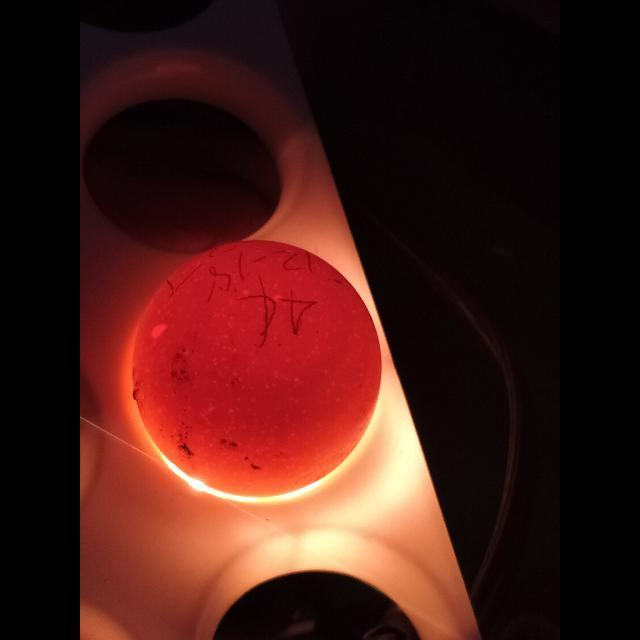Infertile: (120, 236, 388, 487)
